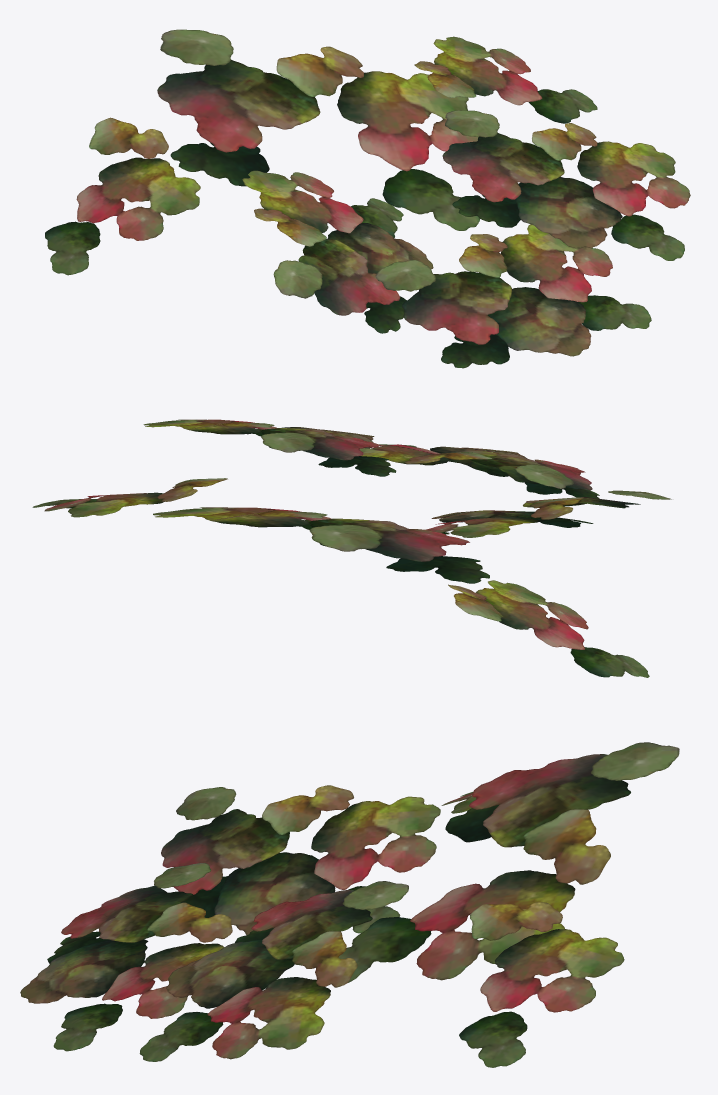
Rendered from 1_ZhiWu_Cao02.FBX.
3 views of the same model, one above another, from view 1: azimuth 30°, elevation 25°; view 2: azimuth 150°, elevation 25°; view 3: azimuth 270°, elevation 25° (orthographic). The views are drawn at different scales.
Visible parts, largest first — view 1: DrawCall_0211; view 2: DrawCall_0211; view 3: DrawCall_0211.
Part boxes in pixels (x1=…): DrawCall_0211: x1=45, y1=29, x2=690, y2=368; DrawCall_0211: x1=32, y1=419, x2=671, y2=677; DrawCall_0211: x1=20, y1=742, x2=679, y2=1067.
Bounding box in the file's own units: 0.0892 × 0.0238 × 0.0788.
